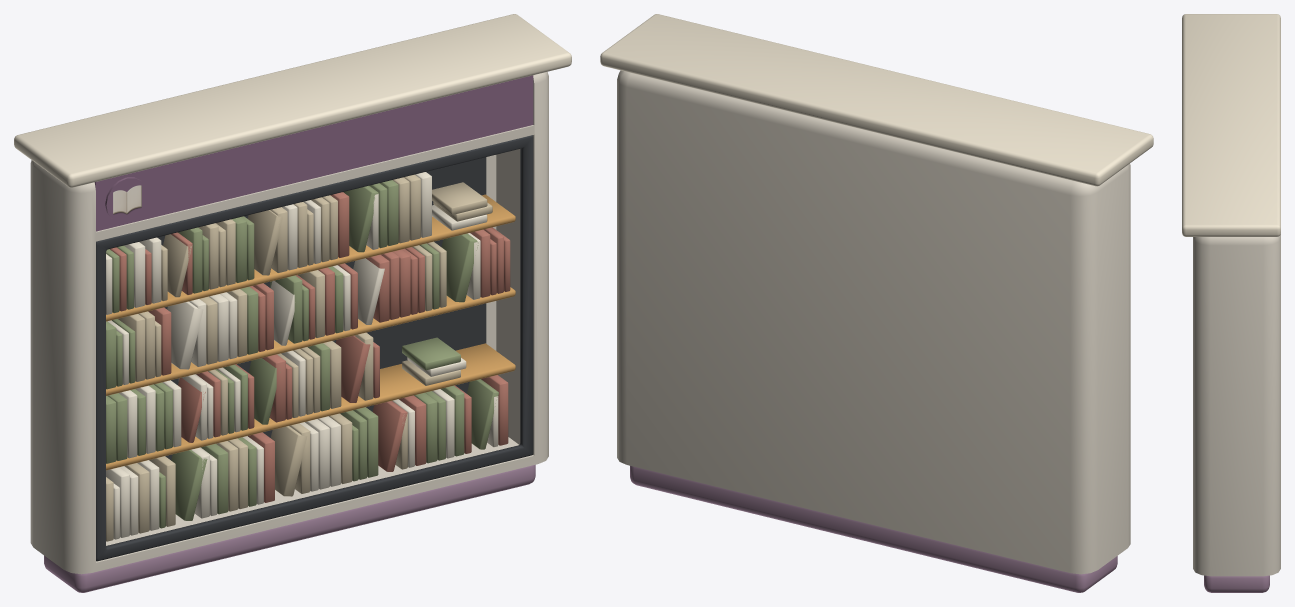
The model's file is bibliotheque.glb.
3 views of the same model, side by side, from view 1: azimuth 30°, elevation 25°; view 2: azimuth 150°, elevation 25°; view 3: azimuth 270°, elevation 25° (orthographic). The views are drawn at different scales.
Visible parts, largest first — view 1: BIB_Struct, BIB_Creme, BIB_Livre_Olive, BIB_Livre_Sable, BIB_Livre_Creme, BIB_Anthracite, BIB_Prune_Base, BIB_Livre_Brique, BIB_Bois, BIB_Prune_Clair; view 2: BIB_Struct, BIB_Creme, BIB_Prune_Clair; view 3: BIB_Struct, BIB_Creme, BIB_Prune_Clair.
Part boxes in pixels (x1=…): BIB_Struct: x1=30, y1=72, x2=548, y2=574; BIB_Creme: x1=14, y1=14, x2=571, y2=187; BIB_Livre_Olive: x1=106, y1=180, x2=498, y2=528; BIB_Livre_Sable: x1=106, y1=174, x2=492, y2=541; BIB_Livre_Creme: x1=106, y1=172, x2=498, y2=539; BIB_Anthracite: x1=96, y1=135, x2=533, y2=561; BIB_Prune_Base: x1=94, y1=75, x2=533, y2=231; BIB_Livre_Brique: x1=109, y1=192, x2=510, y2=502; BIB_Bois: x1=106, y1=194, x2=515, y2=470; BIB_Prune_Clair: x1=44, y1=464, x2=535, y2=592; BIB_Struct: x1=617, y1=70, x2=1130, y2=574; BIB_Creme: x1=600, y1=14, x2=1153, y2=186; BIB_Prune_Clair: x1=630, y1=466, x2=1117, y2=592; BIB_Struct: x1=1193, y1=233, x2=1280, y2=576; BIB_Creme: x1=1182, y1=14, x2=1280, y2=236; BIB_Prune_Clair: x1=1204, y1=575, x2=1269, y2=592.
Size of the model in its own units: 2.3 by 1.9 by 0.45.
Materials: 11 (1 with a texture image).
